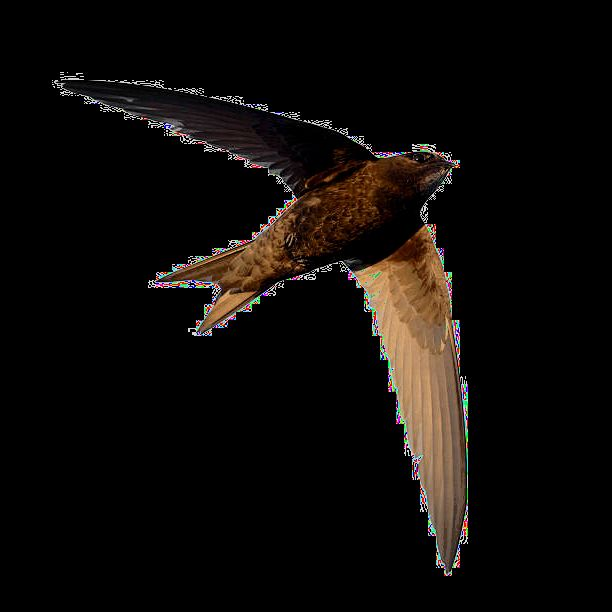Bird: (56, 68, 473, 574)
